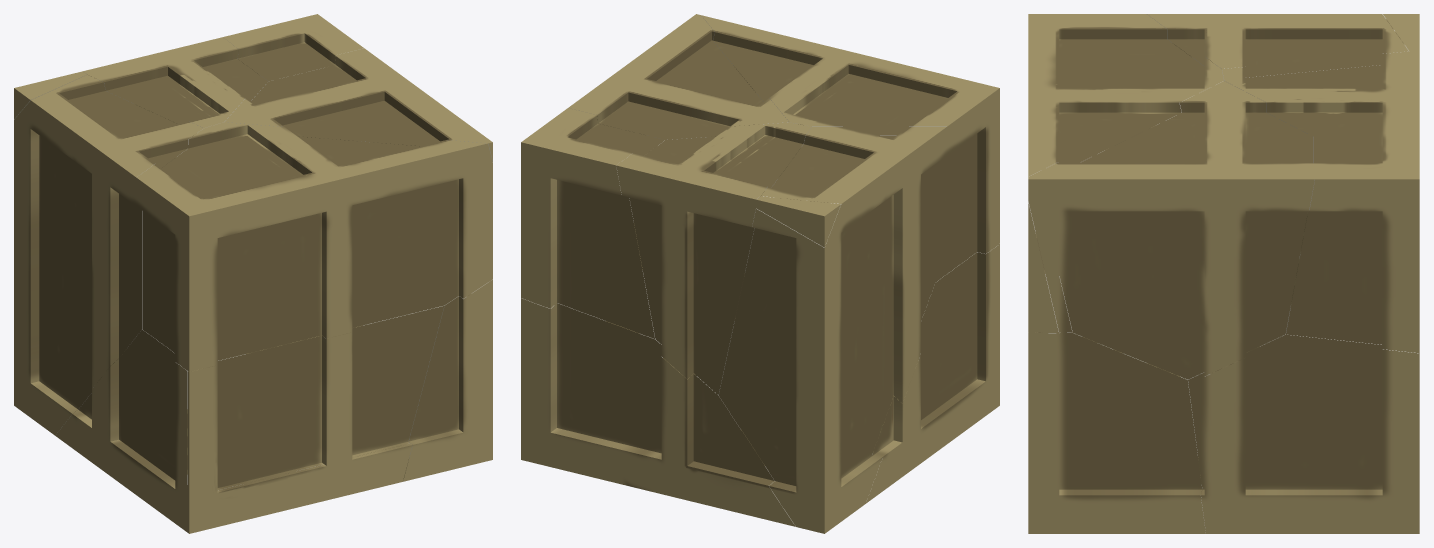
File: cratepart2.fbx
3 views of the same model, side by side, from view 1: azimuth 30°, elevation 25°; view 2: azimuth 150°, elevation 25°; view 3: azimuth 270°, elevation 25° (orthographic). The views are drawn at different scales.
Visible parts, largest first — view 1: caja3, caja8, caja6, caja10, caja2, caja4, caja7, caja9, caja5; view 2: caja8, caja, caja7, caja3, caja9, caja6, caja2, caja5; view 3: caja2, caja, caja4, caja9, caja3, caja8, caja7, caja5.
Part boxes in pixels (x1,y1,x2,y2): caja3: (136,122,492,371); caja8: (14,75,203,435); caja6: (55,306,444,531); caja10: (187,332,412,533); caja2: (224,48,492,161); caja4: (403,279,492,481); caja7: (83,37,268,127); caja9: (223,14,363,81); caja5: (14,71,86,119); caja8: (718,127,946,533); caja: (521,298,795,526); caja7: (616,122,811,394); caja3: (701,15,999,282); caja9: (521,108,664,338); caja6: (866,246,997,503); caja2: (568,14,788,139); caja5: (756,196,840,247); caja2: (1028,81,1314,379); caja: (1188,334,1419,533); caja4: (1028,332,1205,533); caja9: (1285,127,1419,353); caja3: (1028,14,1223,333); caja8: (1147,14,1408,77); caja7: (1222,51,1419,136); caja5: (1383,14,1419,51).
Bounding box in the file's own units: 372 × 372 × 372.
1 material, 1 textured.
